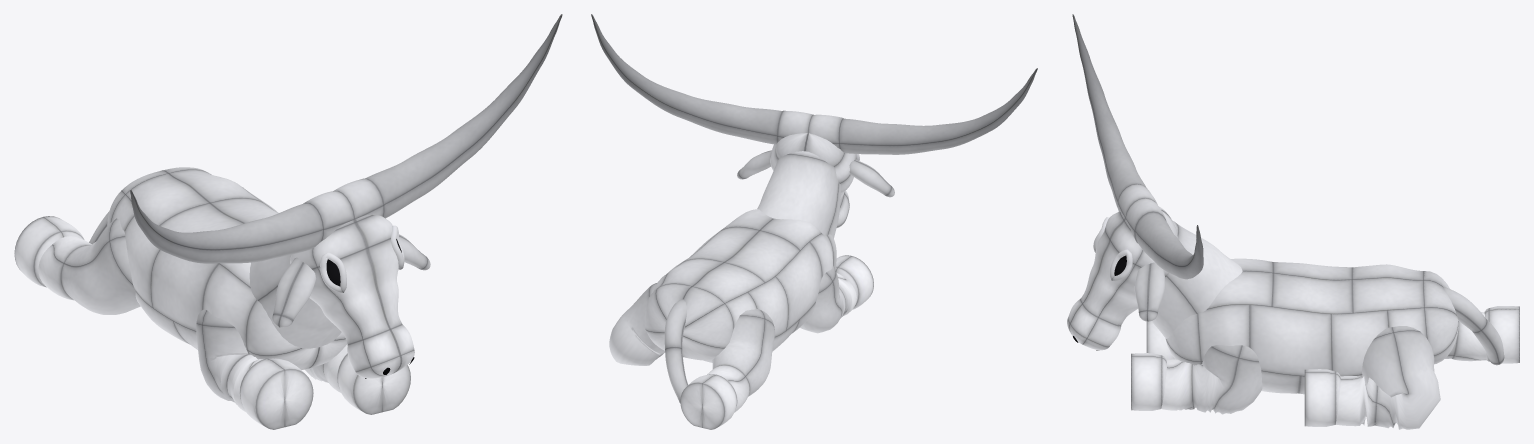
Rendered from longhorn-lying.glb.
3 renders of one model, left to right at view 1: azimuth 30°, elevation 25°; view 2: azimuth 150°, elevation 25°; view 3: azimuth 270°, elevation 25°, orthographic. The views are drawn at different scales.
Parts seen in each view (by area): view 1: body, head; view 2: body, head; view 3: body, head.
Part boxes in pixels (bbox=[...]): body: bbox=[14, 167, 410, 429]; head: bbox=[130, 14, 562, 378]; body: bbox=[609, 209, 873, 429]; head: bbox=[591, 14, 1037, 238]; body: bbox=[1131, 258, 1519, 429]; head: bbox=[1067, 14, 1242, 350].
Size of the model in its own units: 8.03 by 4.81 by 7.28.
Materials: 2 (1 with a texture image).
